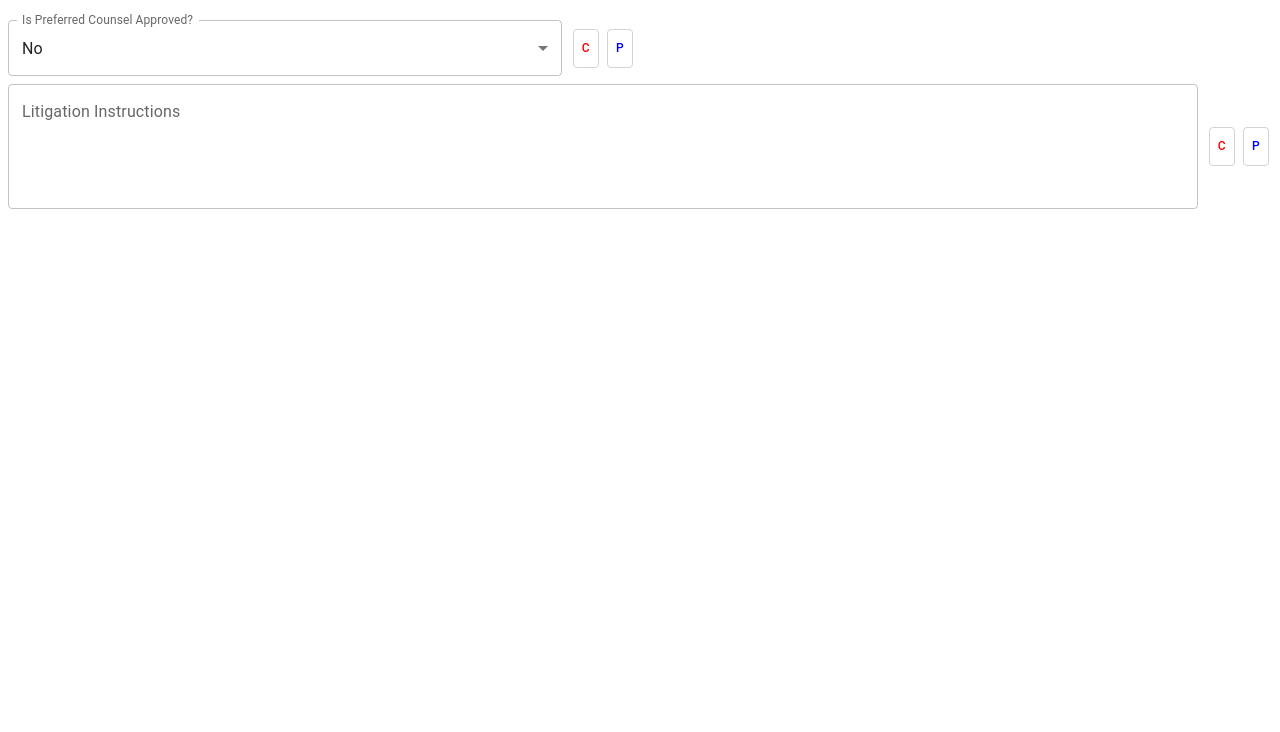
Test case: ClaimHandling2 › shows preferred counsel details when status is changed to Yes
What coordinates should you click on to do the following:
click the dropdown
I would click on:
 (32, 48)
Its box is [22,38,43,58].
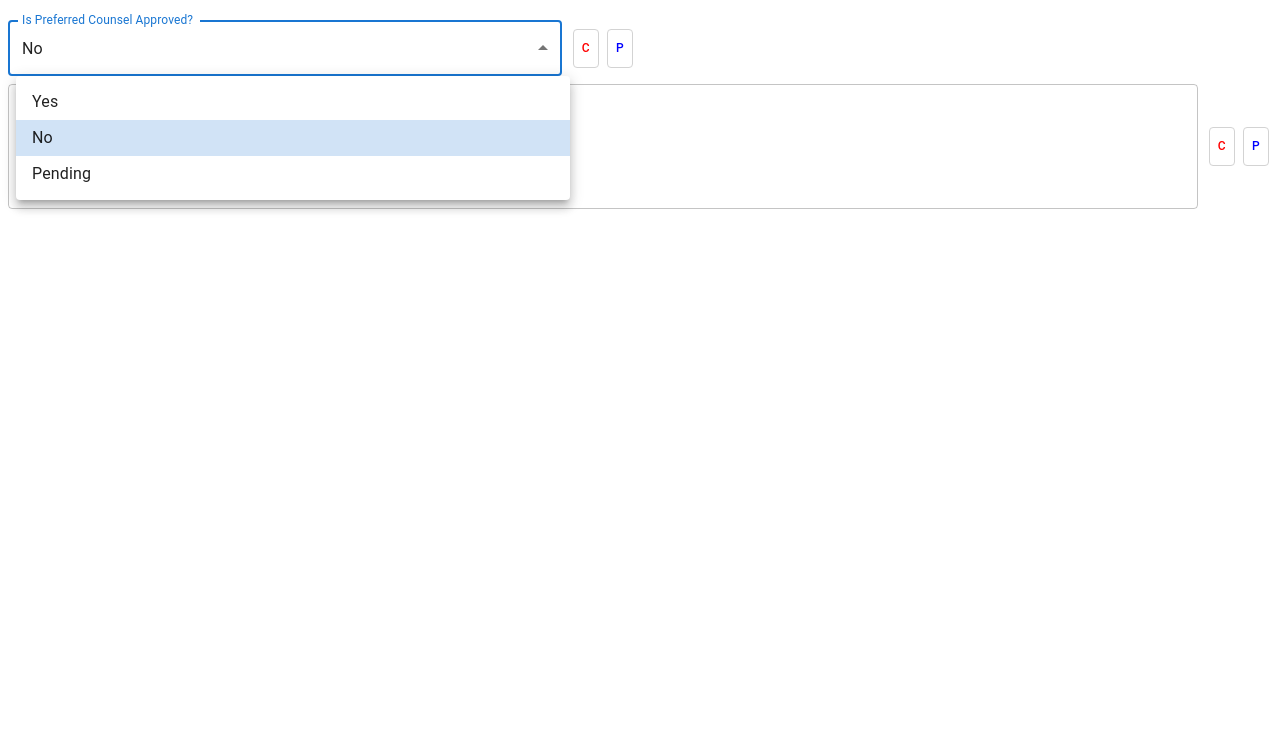
What coordinates should you click on to do the following:
click the option "Yes"
I would click on:
 (45, 102)
Its box is [32,92,58,111].
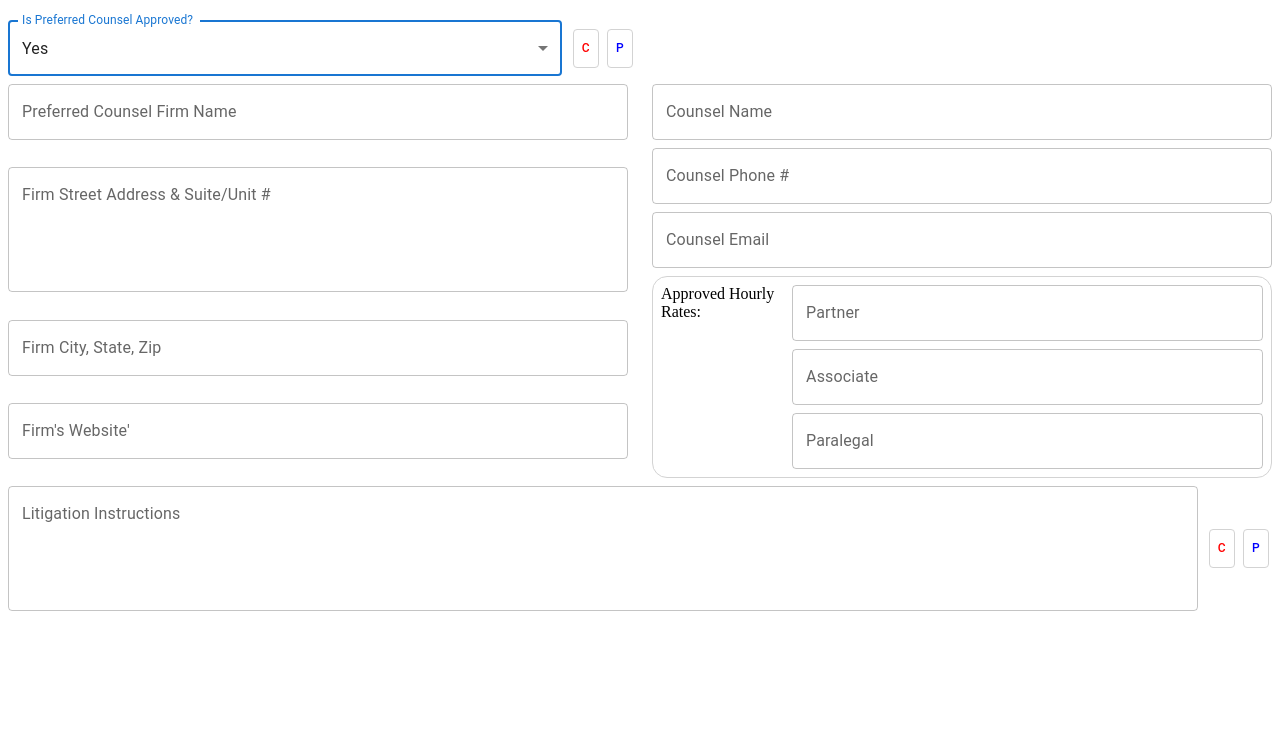
expect the field labelled "Preferred Counsel Firm Name" is shown: met, box [8,84,628,140]
